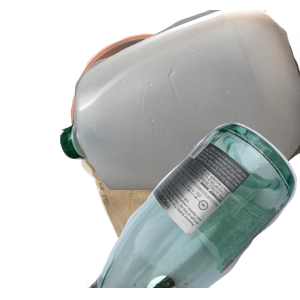glass: (86, 120, 300, 300)
metal: (68, 31, 288, 211)
plastic: (60, 10, 300, 190)
trash: (79, 123, 281, 300)
